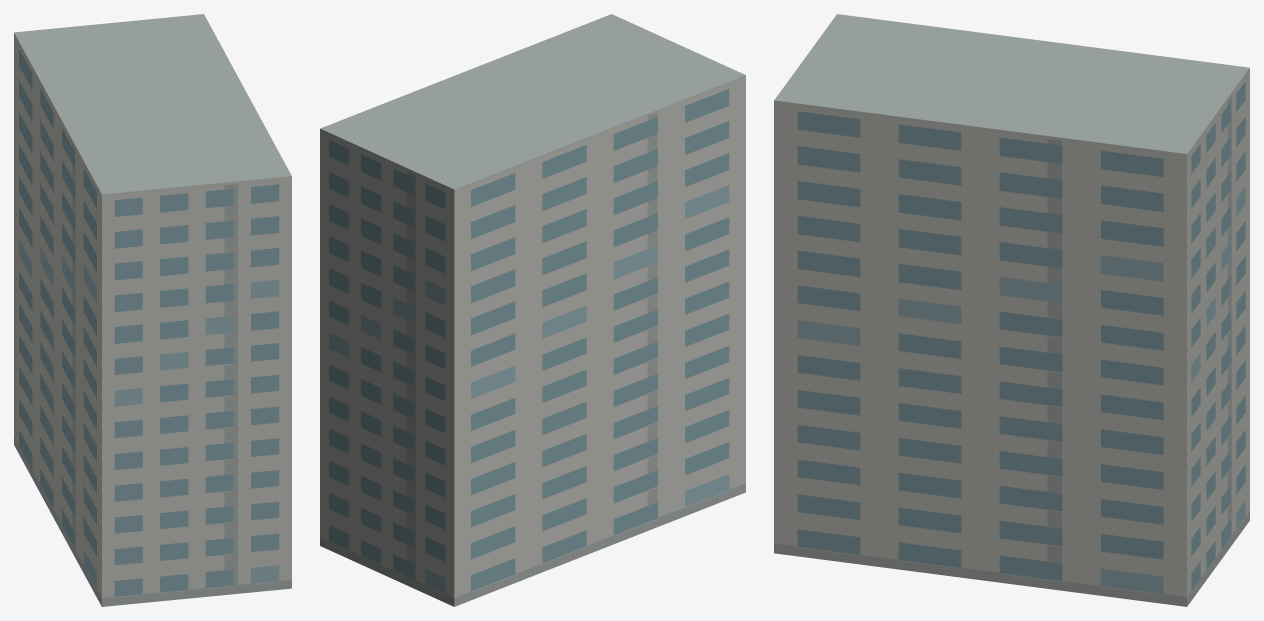
The model's file is residential-68a99079-2019-43f0-aa0a-075fa19b854e.glb.
3 renders of one model, left to right at view 1: azimuth 30°, elevation 25°; view 2: azimuth 150°, elevation 25°; view 3: azimuth 270°, elevation 25°, orthographic. The views are drawn at different scales.
Parts seen in each view (by area): view 1: residential-68a99079-2019-43f0-aa0a-075fa19b854e.tmp; view 2: residential-68a99079-2019-43f0-aa0a-075fa19b854e.tmp; view 3: residential-68a99079-2019-43f0-aa0a-075fa19b854e.tmp.
Boxes of the visible parts, box(x1,y1,x2,y2) form: residential-68a99079-2019-43f0-aa0a-075fa19b854e.tmp: box(14, 14, 291, 606); residential-68a99079-2019-43f0-aa0a-075fa19b854e.tmp: box(320, 14, 745, 606); residential-68a99079-2019-43f0-aa0a-075fa19b854e.tmp: box(774, 14, 1249, 606).
Size of the model in its own units: 26.31 by 39.65 by 37.76.
